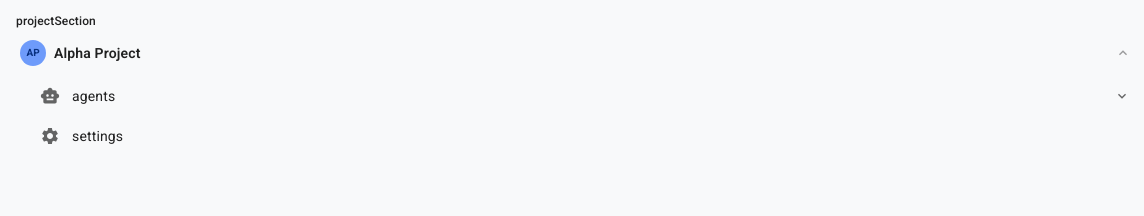
ProjectSwitcher, project menu › lists every project of the active org and ticks the active one
Click the button "AP" at (33, 53), box [16,36,50,70]
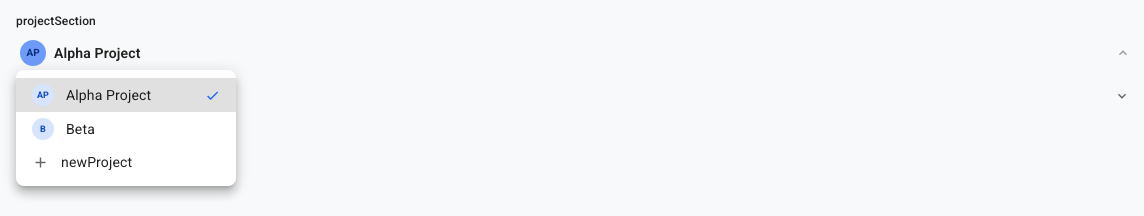
Expected: the number of menu items is 3, [16,78,236,112]; [32,118,95,140]; [32,154,132,170]
Expected: the icon with test id "CheckIcon" is shown, [205,88,220,102]
